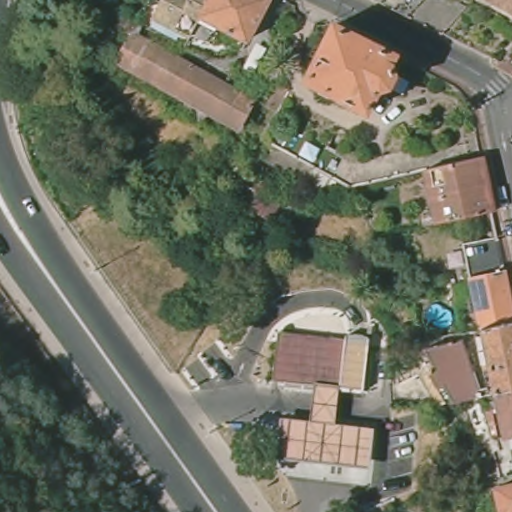pool: (423, 301, 458, 328)
